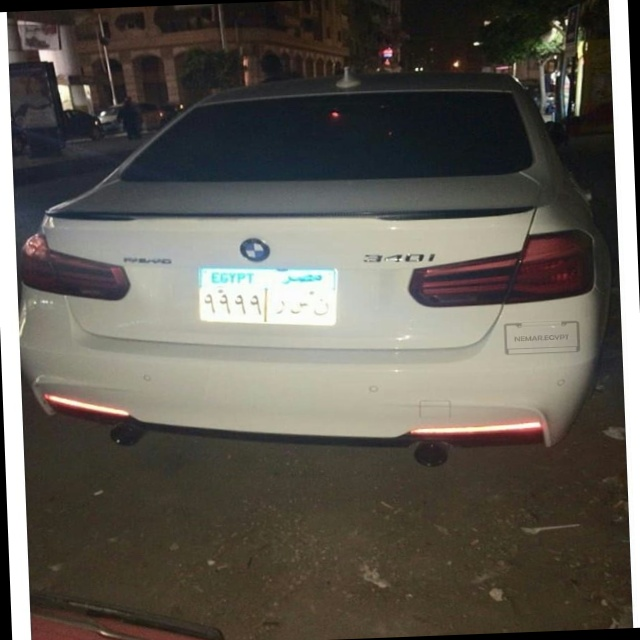License Plate: (193, 260, 341, 334)
